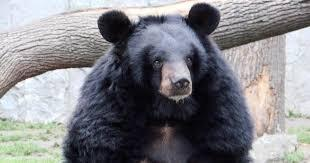bear: (63, 2, 254, 163)
